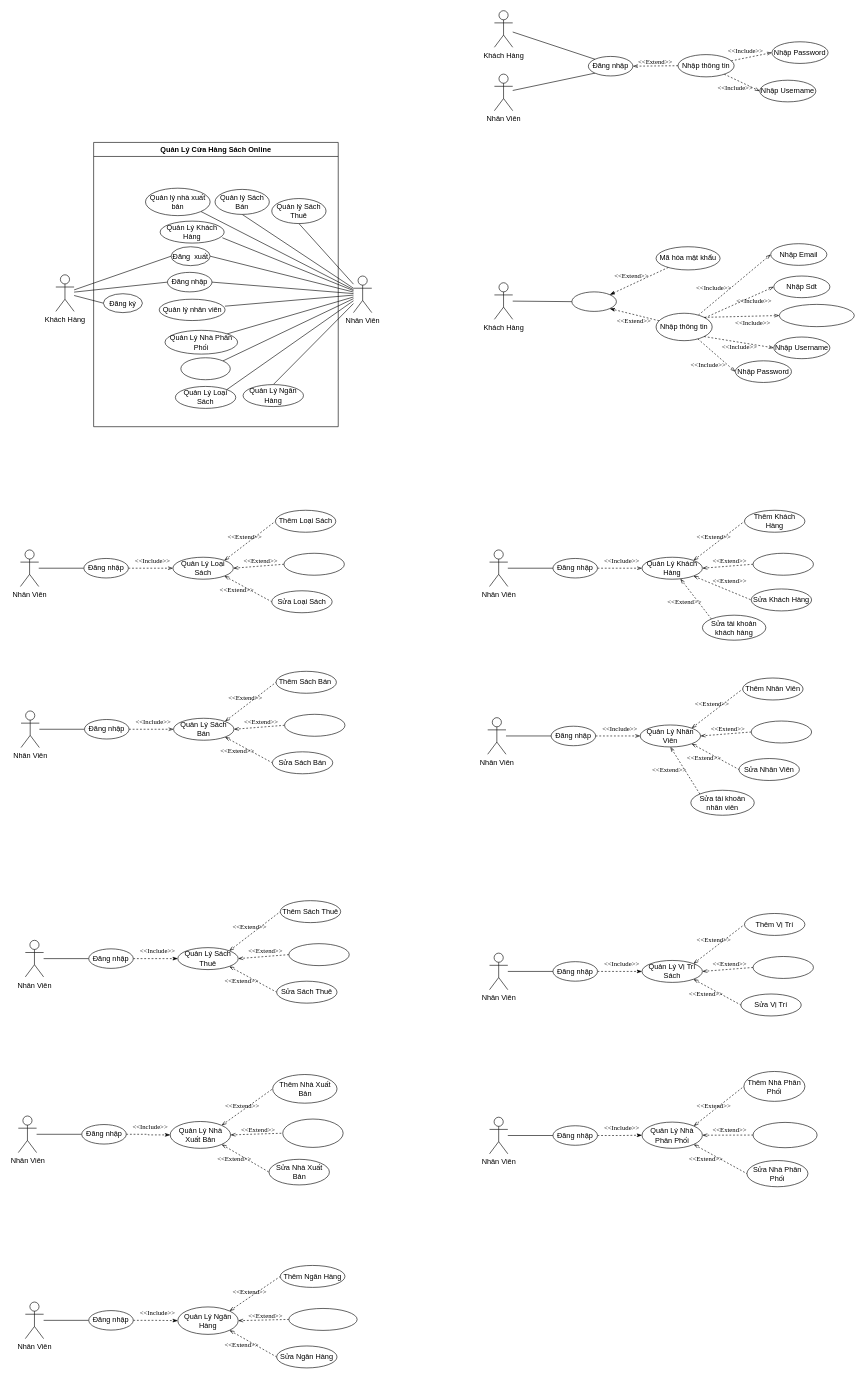
The diagram is 865 pixels wide and 1379 high, and some of its shapes have lost their labels. Each missing label, with the centre of its shape:
Nhập Xác nhận pass: the point at 816,315
Vị Trí sách: the point at 205,368
Xóa Khách Hàng: the point at 782,564
Xóa Loại Sách: the point at 313,564
Xóa Ngân Hàng: the point at 322,1319
Xóa Nhà Phân Phối: the point at 784,1135
Xóa Nhà Xuất Bản: the point at 312,1132
Xóa Nhân Viên: the point at 781,731
Xóa Sách Bán: the point at 314,725
Xóa Sách Thuê: the point at 318,954
Xóa Vị Trí: the point at 782,967
Đăng kí: the point at 593,301
